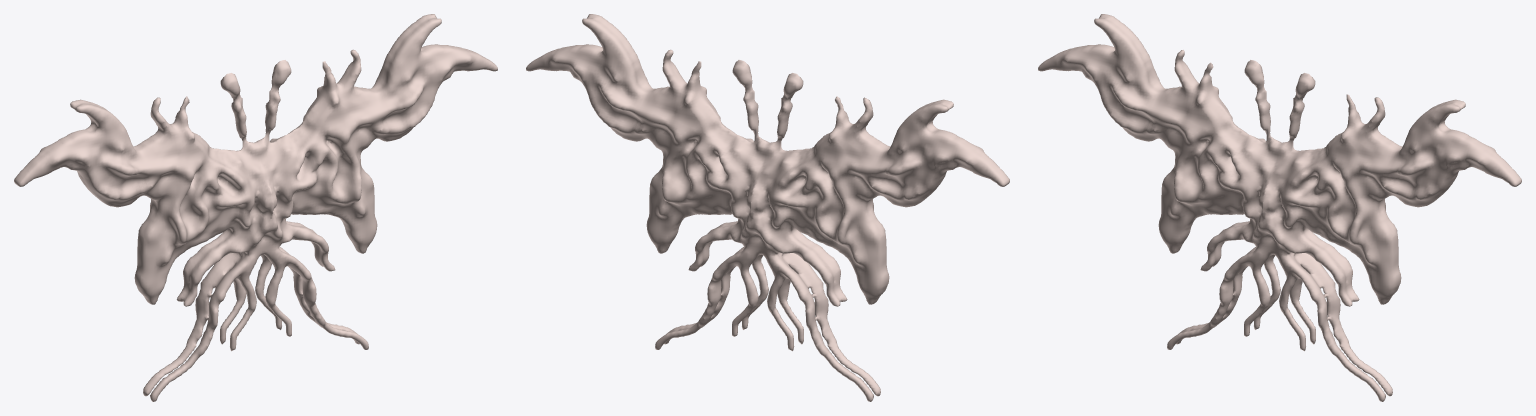
Rendered from butterfly.glb.
The picture shows the model from 3 angles, left to right: view 1: azimuth 30°, elevation 25°; view 2: azimuth 150°, elevation 25°; view 3: azimuth 330°, elevation 25°; orthographic projection.
Visible parts, largest first — view 1: uv spheres reference; view 2: uv spheres reference; view 3: uv spheres reference.
Part boxes in pixels (x1,y1,x2,y2): uv spheres reference: [14, 14, 497, 401]; uv spheres reference: [526, 14, 1009, 401]; uv spheres reference: [1038, 14, 1521, 401].
Bounding box in the file's own units: 24.98 × 15.55 × 3.08.
